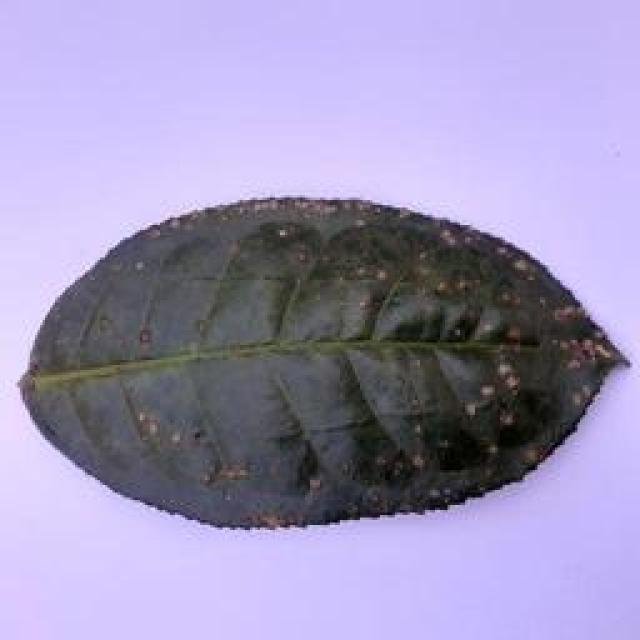Algal Leaf Spot: (6, 189, 640, 541)
